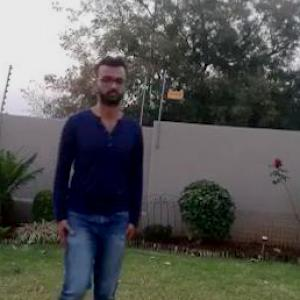follow: (56, 57, 150, 299)
